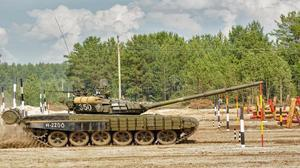t72: (24, 84, 264, 143)
